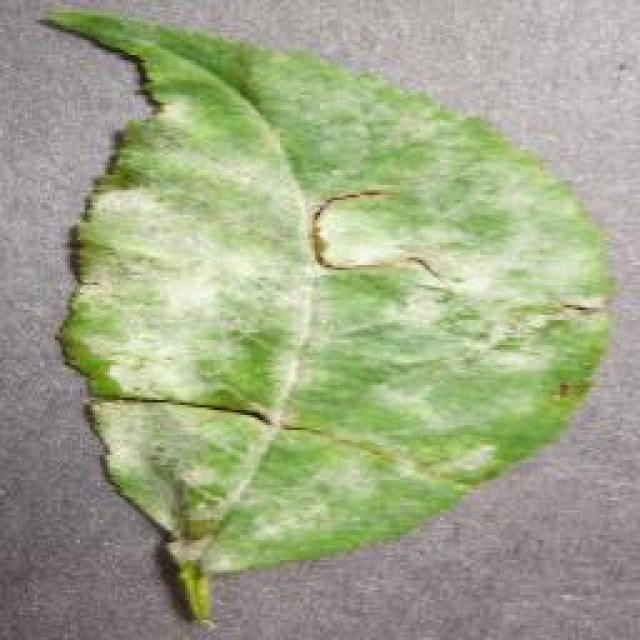Cherry___Powdery_mildew: (30, 2, 625, 638)
